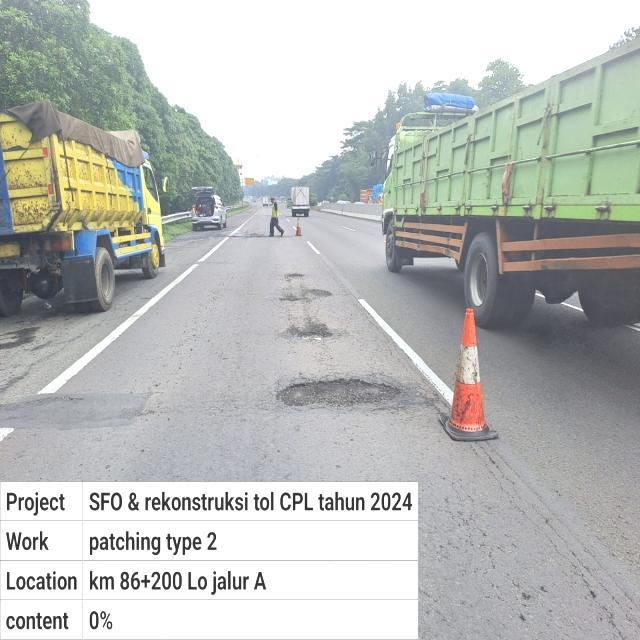Buraco: (274, 376, 404, 409), (275, 319, 336, 345), (276, 293, 314, 307), (307, 288, 333, 298), (285, 272, 306, 281)
